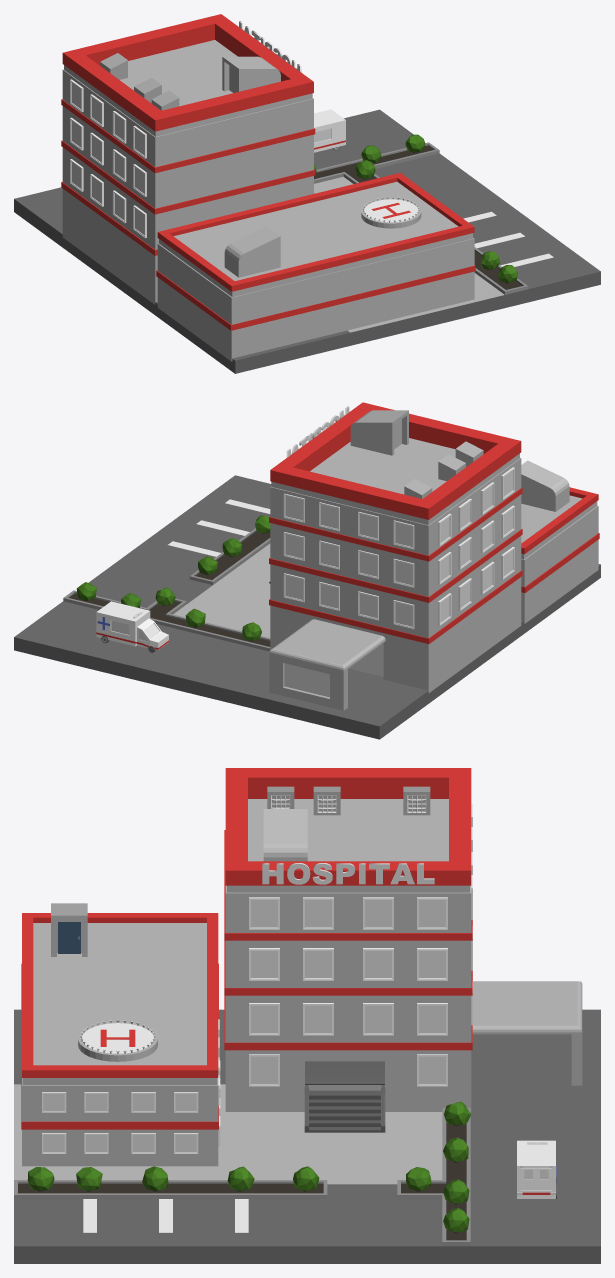
Rendered from hospital.fbx.
3 views of the same model, one above another, from view 1: azimuth 30°, elevation 25°; view 2: azimuth 150°, elevation 25°; view 3: azimuth 270°, elevation 25° (orthographic). The views are drawn at different scales.
Visible parts, largest first — view 1: first case, second case, yard, window.011, door upstairs.001, door upstairs, bushes, for the helicopter, ventilation, car, lines; view 2: first case, yard, window.011, second case, car, bushes, door upstairs, door upstairs.001, ventilation, lines; view 3: yard, first case, second case, window.011, stairs, bushes, for the helicopter, door upstairs, Text, car, ventilation, door upstairs.001 (+2 smaller).
Boxes of the visible parts, left/top/right/bottom form: first case: left=61, top=14, right=315, bottom=304; second case: left=156, top=173, right=475, bottom=361; yard: left=14, top=109, right=600, bottom=373; window.011: left=70, top=79, right=146, bottom=238; door upstairs.001: left=224, top=226, right=280, bottom=277; door upstairs: left=222, top=56, right=280, bottom=92; bushes: left=314, top=134, right=517, bottom=283; for the helicopter: left=361, top=197, right=421, bottom=228; ventilation: left=100, top=53, right=179, bottom=110; car: left=314, top=109, right=346, bottom=152; lines: left=463, top=211, right=553, bottom=266; first case: left=269, top=402, right=522, bottom=710; yard: left=14, top=475, right=600, bottom=739; window.011: left=283, top=467, right=514, bottom=629; second case: left=521, top=487, right=599, bottom=623; car: left=96, top=601, right=168, bottom=649; bushes: left=76, top=515, right=270, bottom=641; door upstairs: left=350, top=410, right=408, bottom=455; door upstairs.001: left=521, top=460, right=569, bottom=511; ventilation: left=404, top=441, right=483, bottom=498; lines: left=168, top=499, right=270, bottom=556; yard: left=14, top=1009, right=600, bottom=1263; first case: left=224, top=768, right=582, bottom=1111; second case: left=21, top=913, right=218, bottom=1166; window.011: left=42, top=804, right=472, bottom=1153; stairs: left=304, top=1061, right=385, bottom=1132; bushes: left=27, top=1101, right=470, bottom=1233; for the helicopter: left=78, top=1020, right=157, bottom=1061; door upstairs: left=263, top=809, right=307, bottom=861; Text: left=262, top=863, right=434, bottom=884; car: left=517, top=1140, right=555, bottom=1198; ventilation: left=267, top=786, right=430, bottom=815; door upstairs.001: left=51, top=903, right=87, bottom=956.
Size of what is drawn, in the model's own units: 1408 by 776 by 1467.
